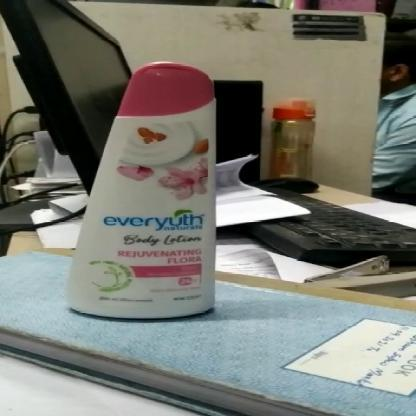Everyuth Naturals Body Lotion Rejuvenating Flora 200ml: (65, 57, 226, 325)
